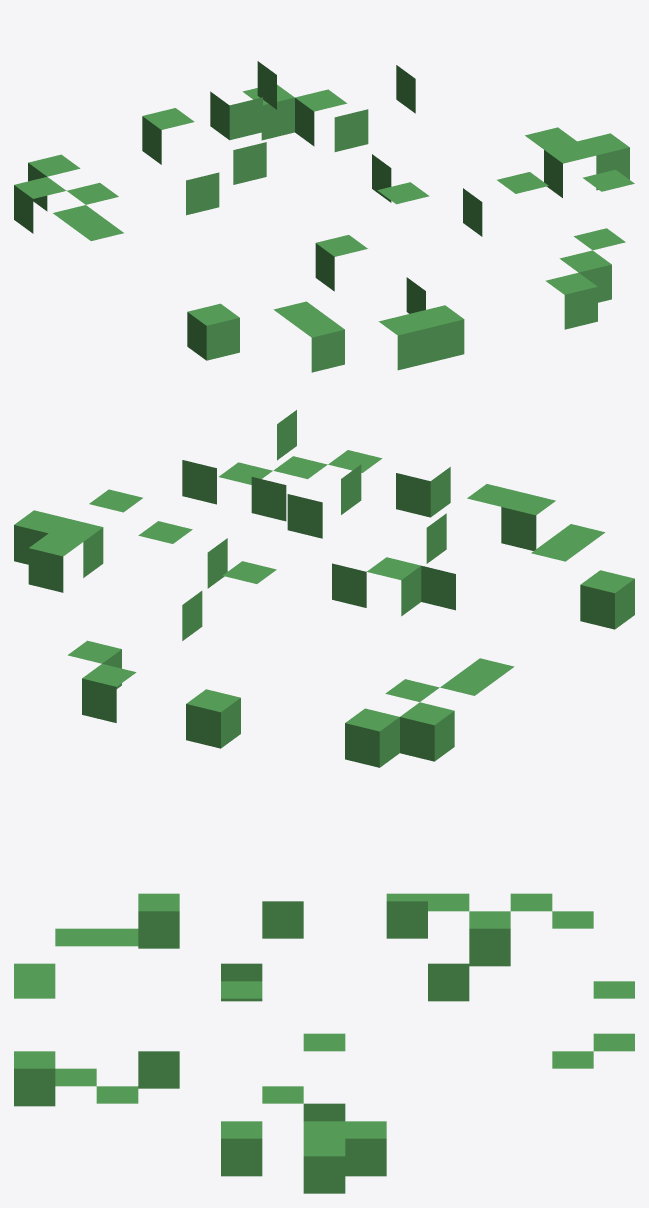
File: tree-pine-1p2-57a95a.gltf
The picture shows the model from 3 angles, top to bottom: view 1: azimuth 30°, elevation 25°; view 2: azimuth 150°, elevation 25°; view 3: azimuth 270°, elevation 25°; orthographic projection. The views are drawn at different scales.
Parts seen in each view (by area): view 1: tree-pine-1p2-57a95a; view 2: tree-pine-1p2-57a95a; view 3: tree-pine-1p2-57a95a.
Boxes of the visible parts, bbox=[...] form: tree-pine-1p2-57a95a: bbox=[14, 61, 634, 372]; tree-pine-1p2-57a95a: bbox=[14, 410, 634, 767]; tree-pine-1p2-57a95a: bbox=[14, 893, 634, 1193].
Size of the model in its own units: 15 by 5 by 15.
